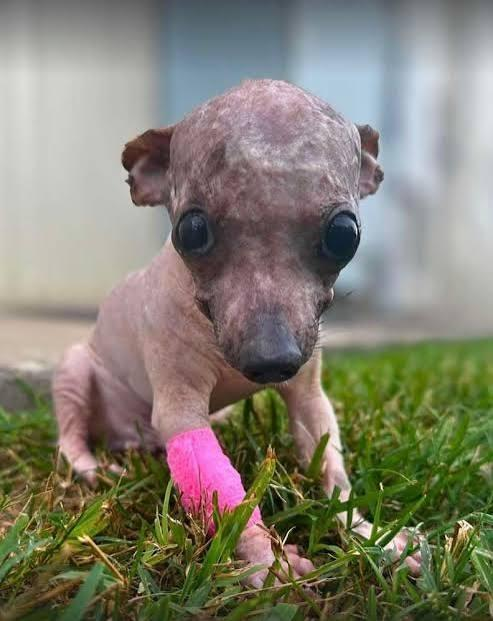puppy-dog: (49, 78, 424, 591)
